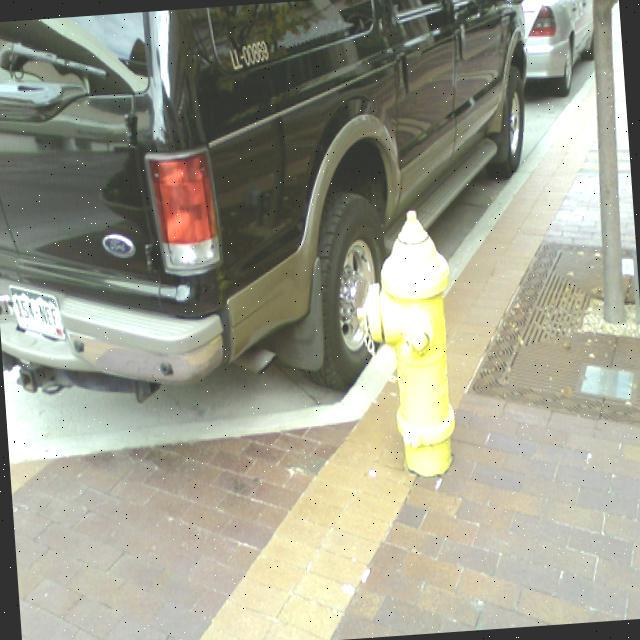fire_hydrant: (351, 211, 466, 478)
